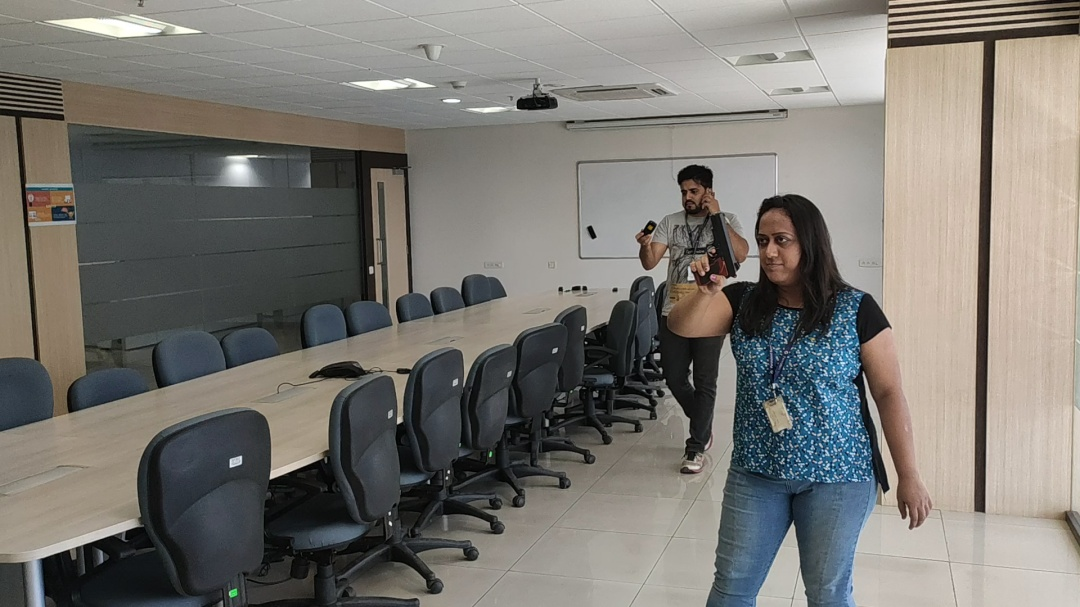gun: (691, 211, 741, 284)
